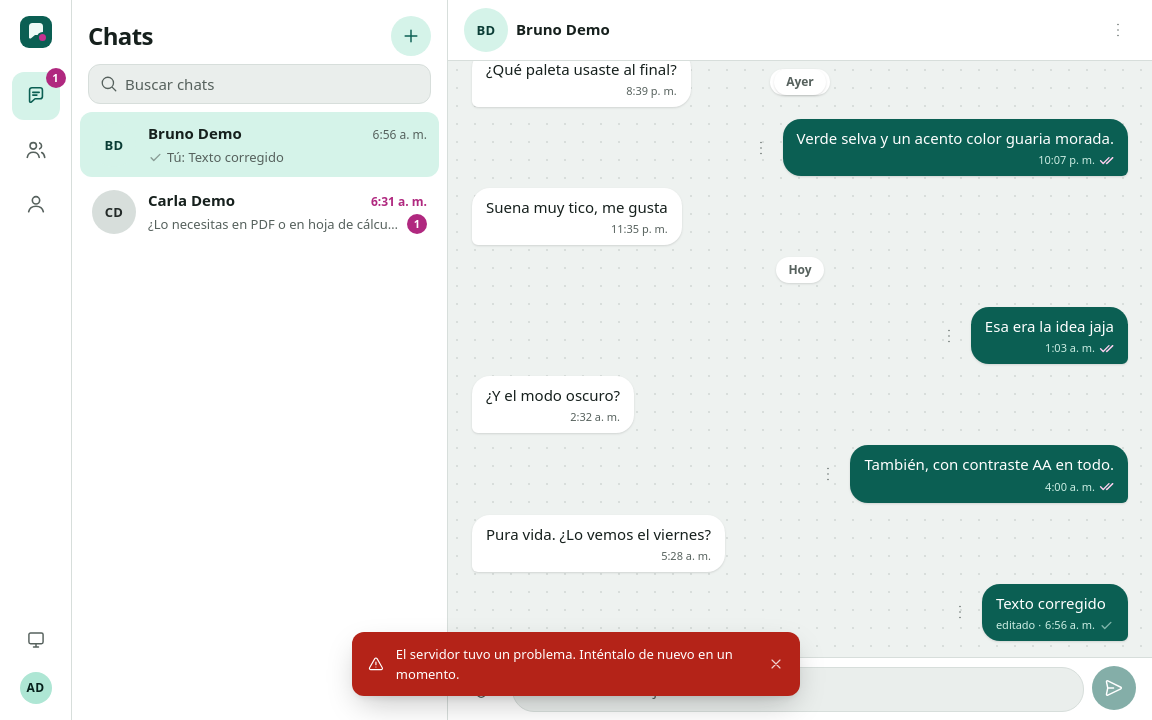
Scenario: conversación › edita y borra un mensaje propio desde su menú de acciones
Earlier steps of the test are not shown.
(page scrolled)
Expected: the text "editado ·" is shown, [996,617,1041,633]
What coordinates should you click on to do the following:
click the button named "Acciones del mensaje" next to "editado ·"
I would click on:
 (960, 612)
Its box is [942,594,978,630].
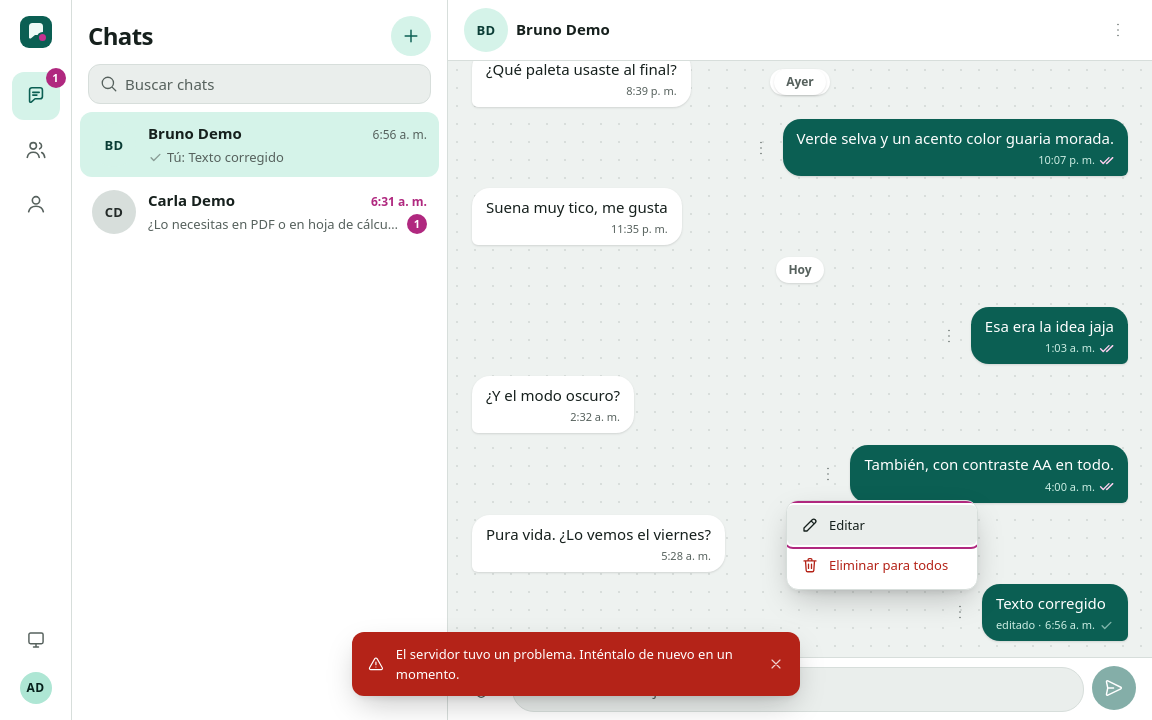
What coordinates should you click on to do the following:
click the menu item "Eliminar para todos"
I would click on:
 (882, 566)
Its box is [787,546,977,586].
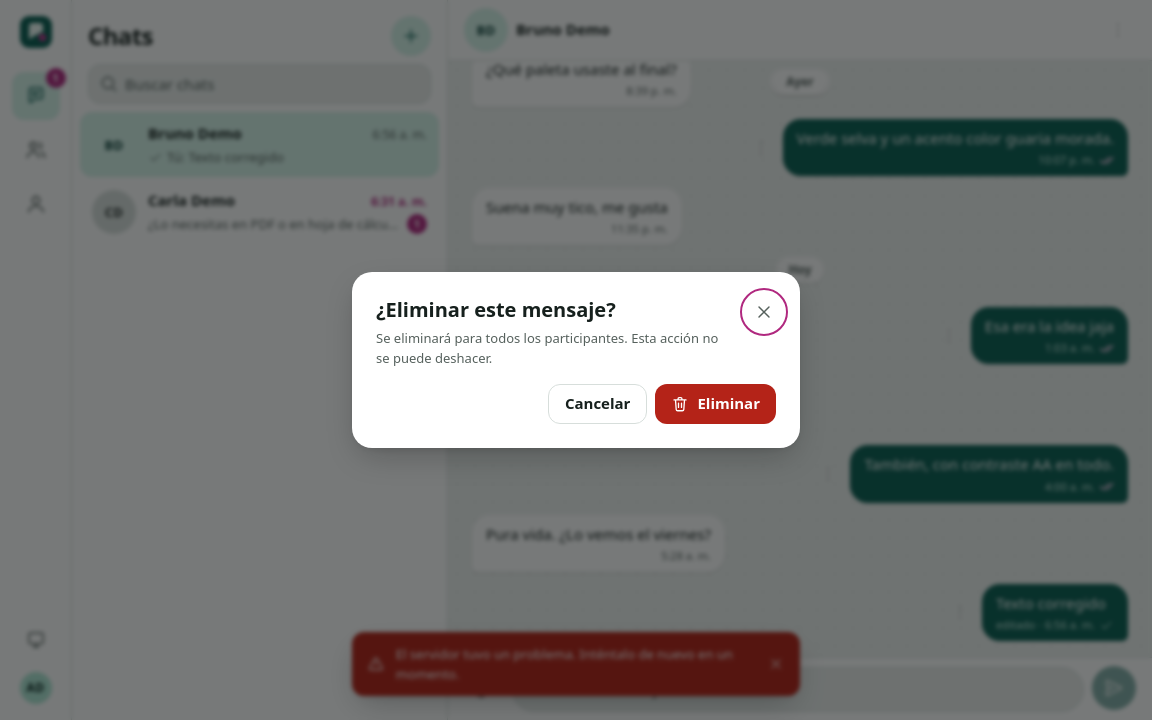
What coordinates should you click on to do the following:
click the button "Eliminar"
I would click on:
 (716, 404)
Its box is [655,384,776,424].
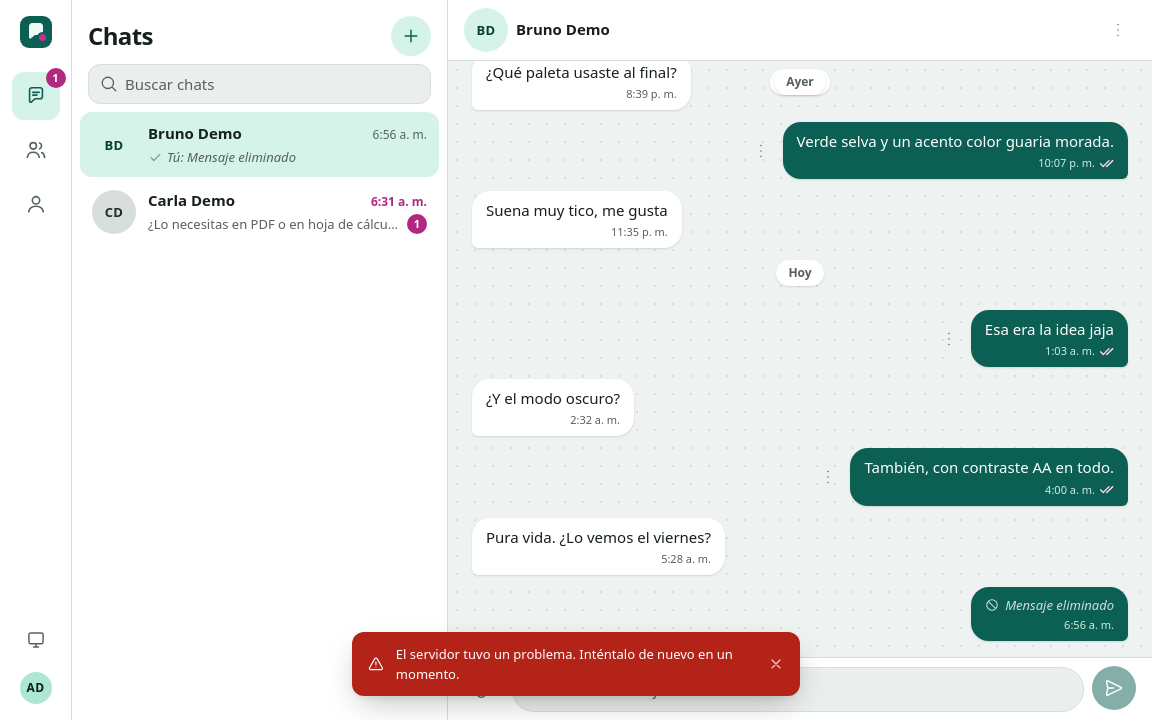
Now the text "Mensaje eliminado" is shown, box [985,595,1114,615]
Now the link "Texto corregido" is gone
